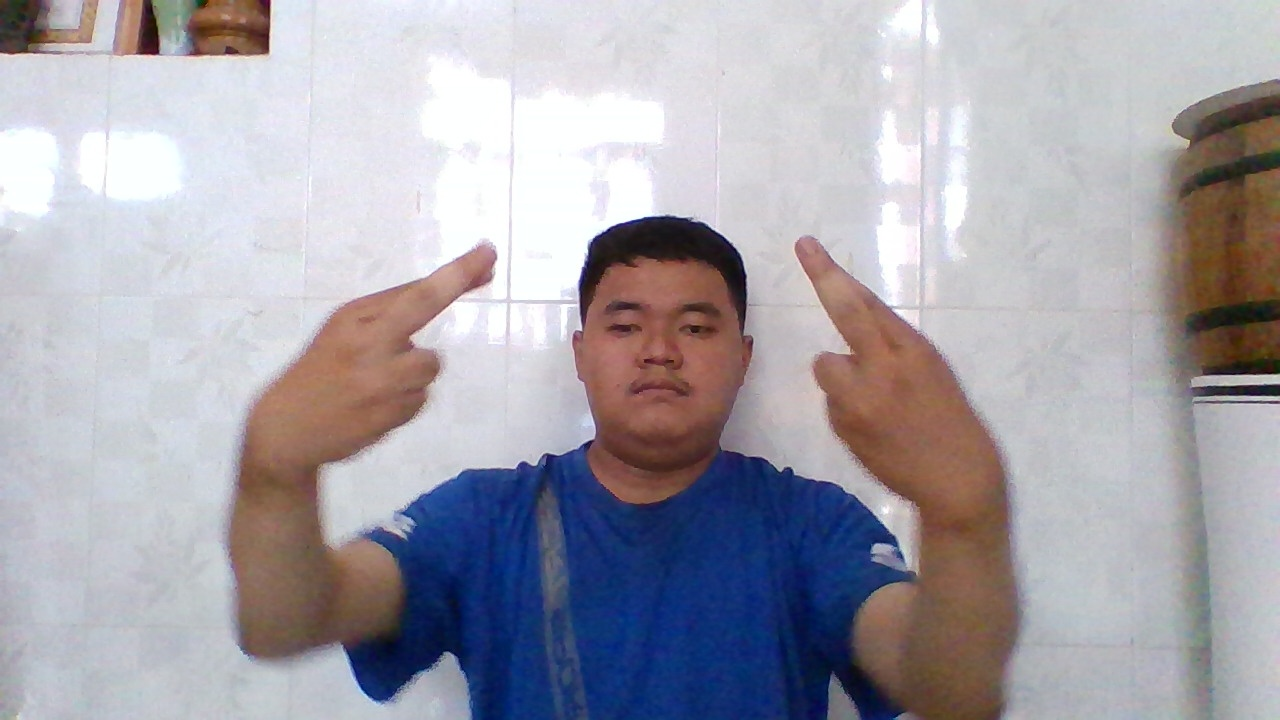R: (784, 228, 989, 516), (252, 234, 507, 462)
